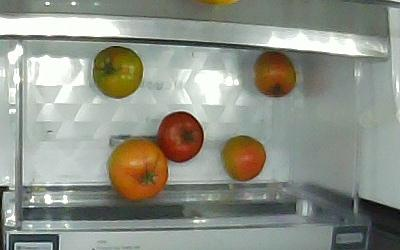tomato: (108, 138, 169, 203), (93, 45, 144, 99), (157, 111, 206, 164), (221, 135, 268, 181), (254, 53, 299, 98)
